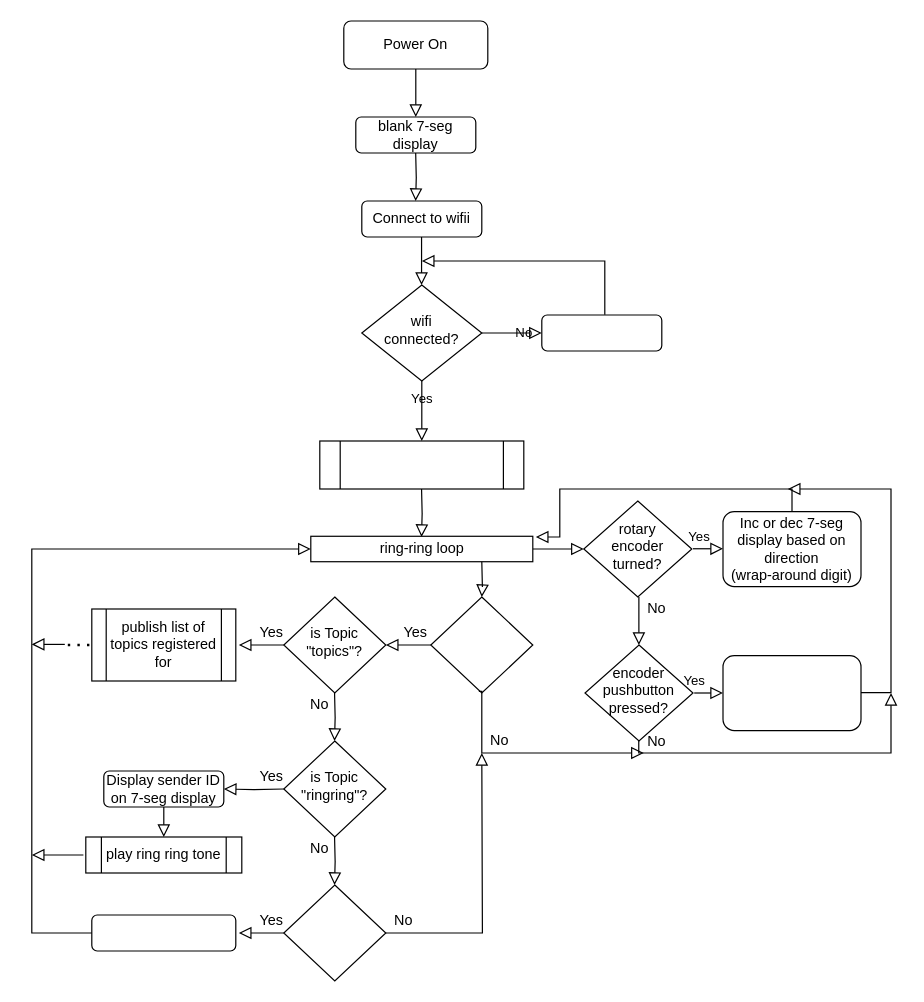
Some shapes in this 924 by 1002 pixel diagram are drawn without their labels. Each missing label, with the centre of its shape:
change “heartbeat” time interval: (x=163, y=932)
is Topic "beattime"?: (x=334, y=932)
MQTT message arrives: (x=481, y=644)
Send MQTT ring-ring message of deive ID shown on 7-seg display: (x=791, y=692)
setup MQTT broker server/callback function: (x=421, y=464)
wifi reconnect functio: (x=601, y=332)
